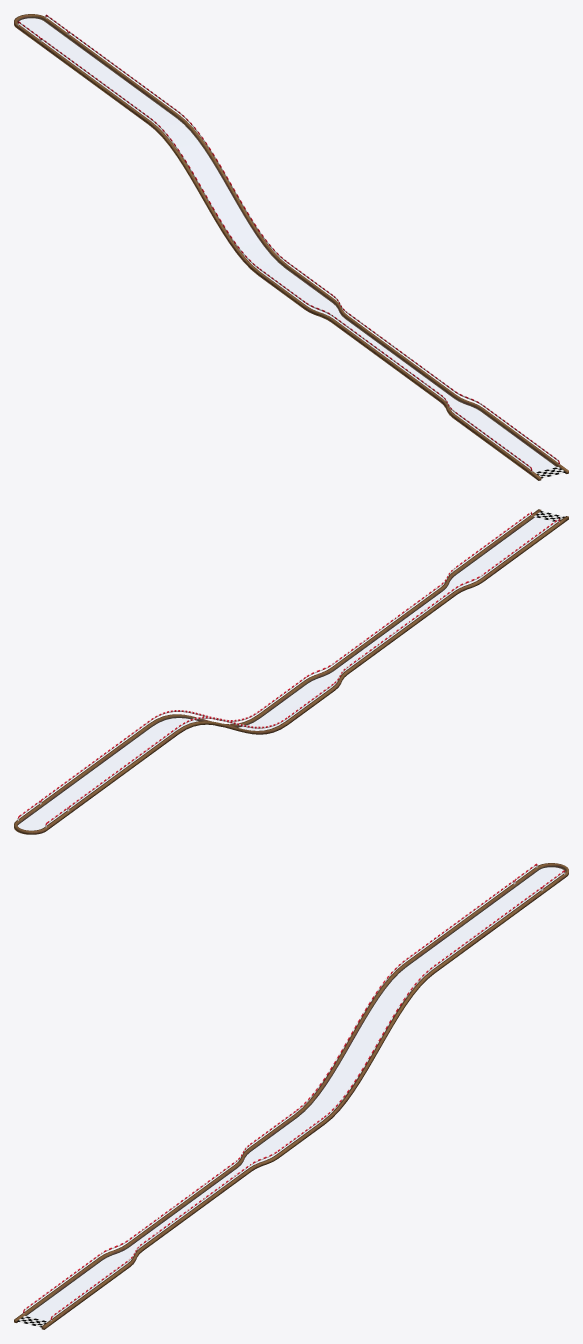
The model's file is MAP1S.fbx.
3 views of the same model, one above another, from view 1: azimuth 30°, elevation 25°; view 2: azimuth 150°, elevation 25°; view 3: azimuth 330°, elevation 25° (orthographic).
Parts seen in each view (by area): view 1: Edge.002, Edge; view 2: Edge.002, Edge; view 3: Edge.002, Edge.
Part boxes in pixels (x1,y1,x2,y2): Edge.002: [14, 14, 568, 480]; Edge: [17, 14, 559, 471]; Edge.002: [14, 509, 568, 834]; Edge: [17, 512, 559, 827]; Edge.002: [14, 863, 568, 1329]; Edge: [23, 863, 565, 1320].
Bounding box in the file's own units: 450 × 1104 × 13624.
4 materials, 3 textured.
